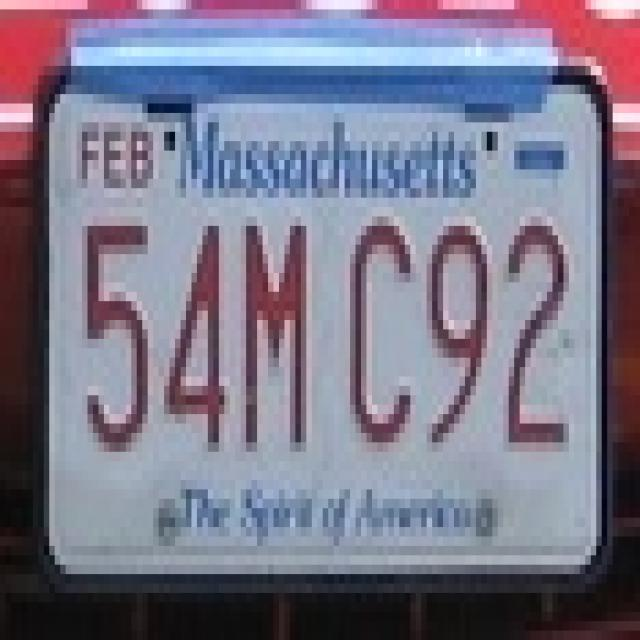licenseplate: (16, 42, 617, 582)
